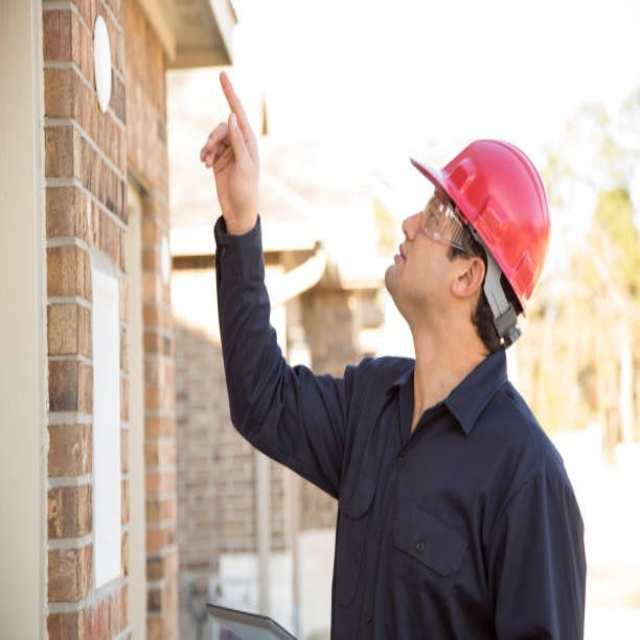Gafas: (419, 191, 479, 256)
Sin_guantes: (199, 71, 264, 216)
Sin_mascara: (380, 223, 417, 287)
